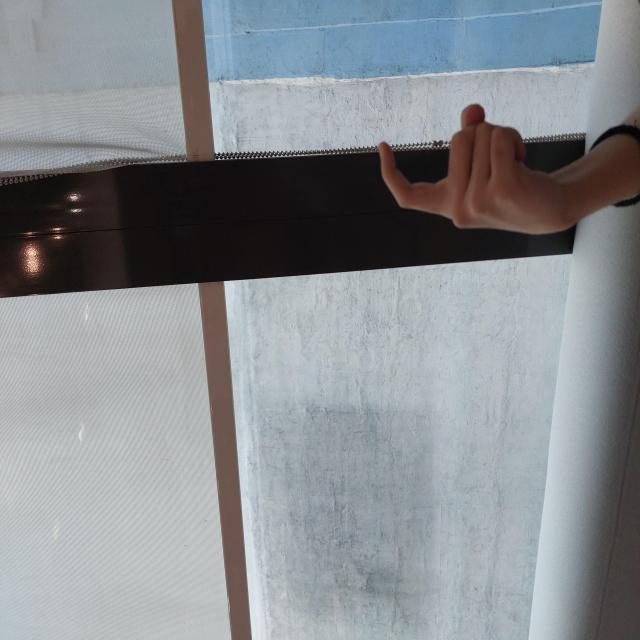X: (406, 379, 538, 557)
